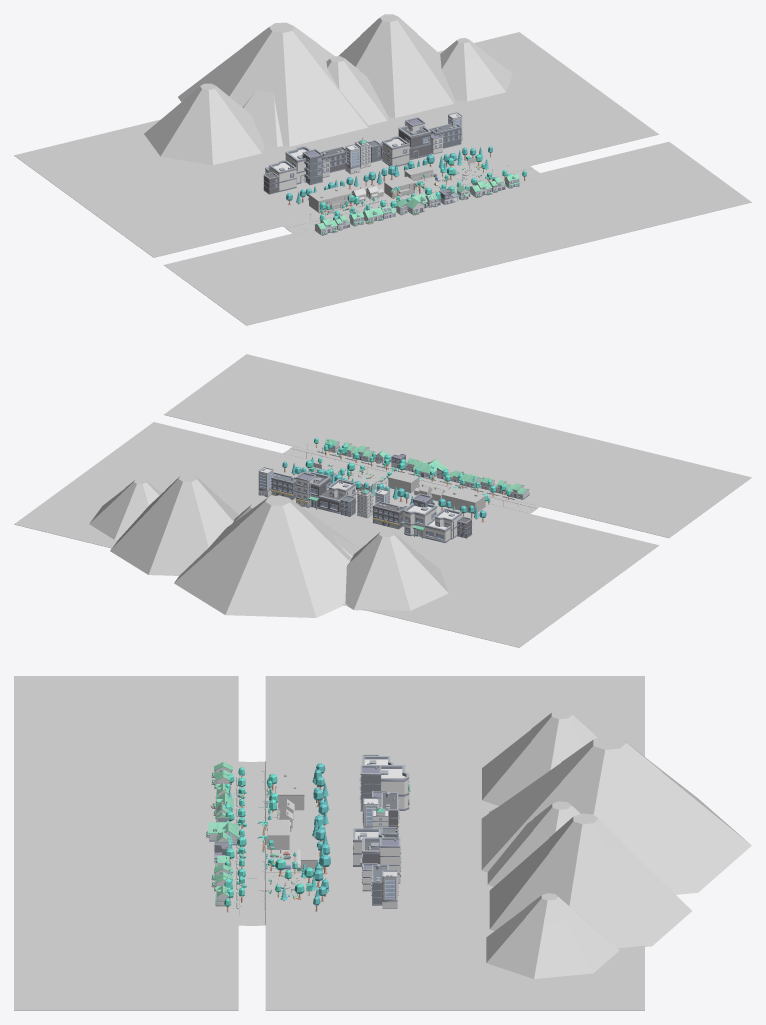
Rendered from set.glb.
3 views of the same model, one above another, from view 1: azimuth 30°, elevation 25°; view 2: azimuth 150°, elevation 25°; view 3: azimuth 270°, elevation 25° (orthographic). The views are drawn at different scales.
Parts seen in each view (by area): view 1: grass, mountain, mountain_snow, kc_a0a8b8, k_leafsDark, k_leafsGreen, lawn, kc_b8c0c8, far_wall_0, kc_a8b0c0, far_wall_3, kc_b0b8c8 (+10 smaller); view 2: grass, mountain, mountain_snow, kc_a0a8b8, k_leafsGreen, kc_b8c0c8, far_wall_0, far_wall_2, sidewalk, kc_a8b0c0, k_leafsDark, kc_b0b8c8 (+8 smaller); view 3: grass, mountain, mountain_snow, lawn, k_leafsGreen, asphalt, k_leafsDark, sidewalk, kc_b8c0c8, far_wall_2, kc_90d8b8, kc_98e0c0 (+10 smaller).
Part boxes in pixels (x1,y1,x2,y2): grass: (14, 32, 751, 325); mountain: (144, 34, 512, 165); mountain_snow: (184, 14, 481, 111); kc_a0a8b8: (264, 117, 519, 234); k_leafsDark: (286, 146, 492, 218); k_leafsGreen: (319, 154, 526, 220); lawn: (301, 155, 536, 235); kc_b8c0c8: (263, 112, 462, 181); far_wall_0: (264, 128, 430, 193); kc_a8b0c0: (263, 113, 519, 235); far_wall_3: (303, 125, 461, 184); kc_b0b8c8: (264, 112, 519, 235); grass: (14, 354, 751, 647); mountain: (89, 489, 448, 617); mountain_snow: (121, 474, 409, 558); kc_a0a8b8: (258, 440, 529, 543); k_leafsGreen: (305, 437, 510, 502); kc_b8c0c8: (259, 467, 471, 539); far_wall_0: (310, 476, 471, 538); far_wall_2: (357, 489, 450, 541); sidewalk: (283, 446, 539, 513); kc_a8b0c0: (258, 440, 529, 540); k_leafsDark: (282, 448, 486, 518); kc_b0b8c8: (258, 440, 529, 539); grass: (14, 676, 644, 1010); mountain: (481, 729, 751, 978); mountain_snow: (525, 710, 661, 923); lawn: (225, 766, 334, 919); k_leafsGreen: (224, 767, 313, 906); asphalt: (246, 762, 257, 925); k_leafsDark: (228, 763, 330, 905); sidewalk: (239, 761, 264, 925); kc_b8c0c8: (287, 754, 409, 895); far_wall_2: (363, 769, 408, 890); kc_90d8b8: (206, 762, 384, 904); kc_98e0c0: (208, 762, 287, 896).
Bounding box in the file's own units: 665 × 95.4 × 620.
